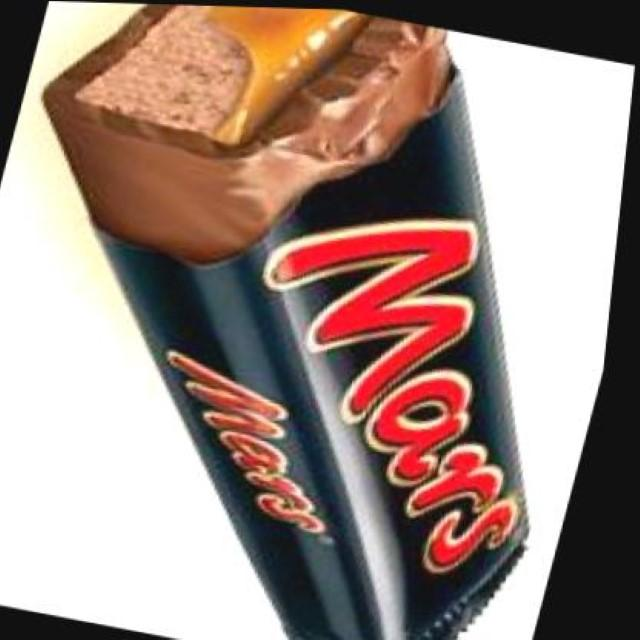mars_chocolate: (115, 165, 573, 638)
